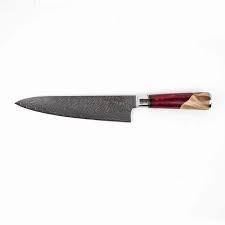Knife: (14, 91, 212, 122)
